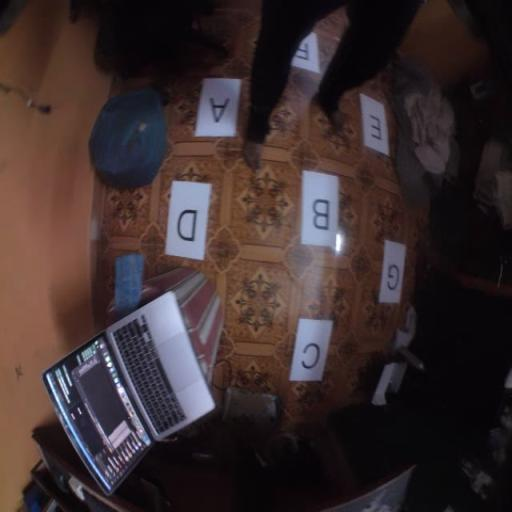A: (193, 76, 241, 138)
B: (299, 168, 339, 248)
C: (288, 317, 334, 382)
D: (164, 180, 213, 262)
E: (358, 93, 390, 156)
F: (290, 31, 321, 75)
G: (378, 240, 406, 305)
